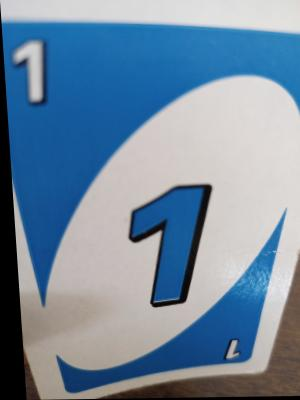blue: (9, 24, 255, 369)
num_1: (6, 32, 71, 117), (214, 336, 238, 364)
